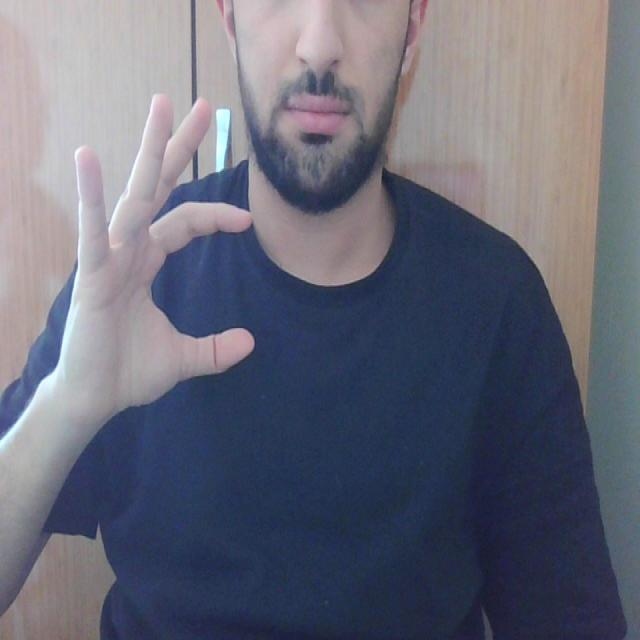Tuvalet: (32, 90, 274, 427)
